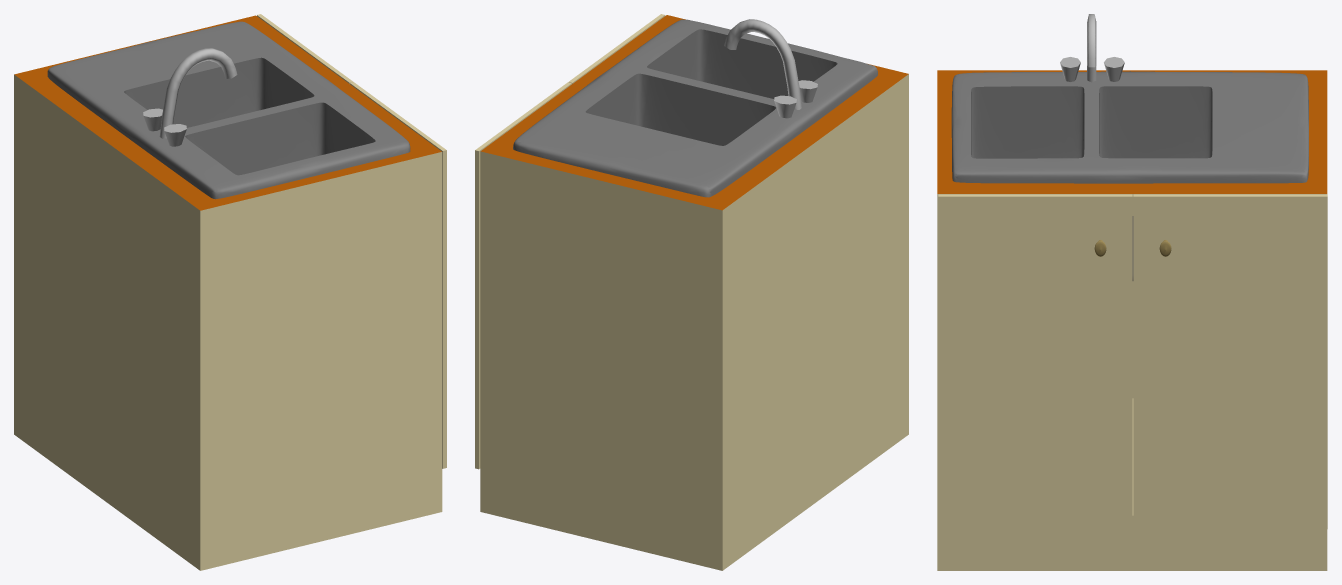
The model's file is sink.dae.
3 renders of one model, left to right at view 1: azimuth 30°, elevation 25°; view 2: azimuth 150°, elevation 25°; view 3: azimuth 270°, elevation 25°, orthographic. The views are drawn at different scales.
Visible parts, largest first — view 1: sink; view 2: sink; view 3: sink.
Part boxes in pixels (x1,y1,x2,y2): sink: (14,14,446,570); sink: (475,14,908,570); sink: (937,14,1327,570).
Bounding box in the file's own units: 0.64 × 0.8 × 1.06.
